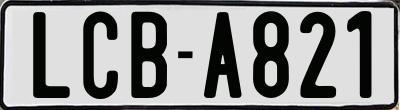1: (344, 9, 373, 98)
2: (299, 12, 341, 101)
8: (252, 8, 292, 95)
A: (204, 12, 245, 100)
B: (131, 9, 167, 96)
C: (83, 9, 123, 100)
L: (33, 11, 70, 97)
